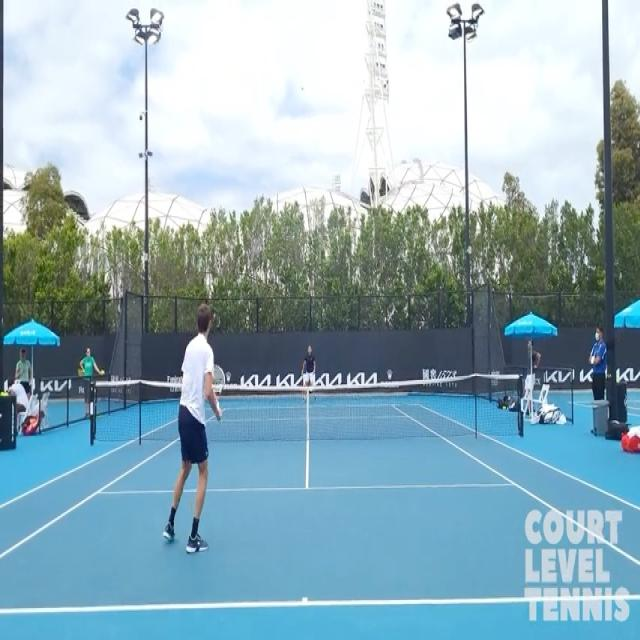ready-position: (159, 280, 242, 573)
